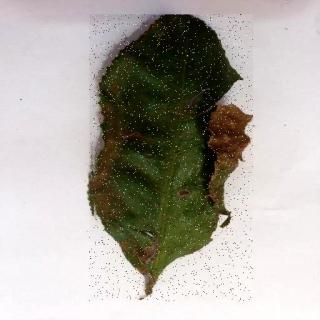Algal Leaf: (90, 16, 254, 303)
